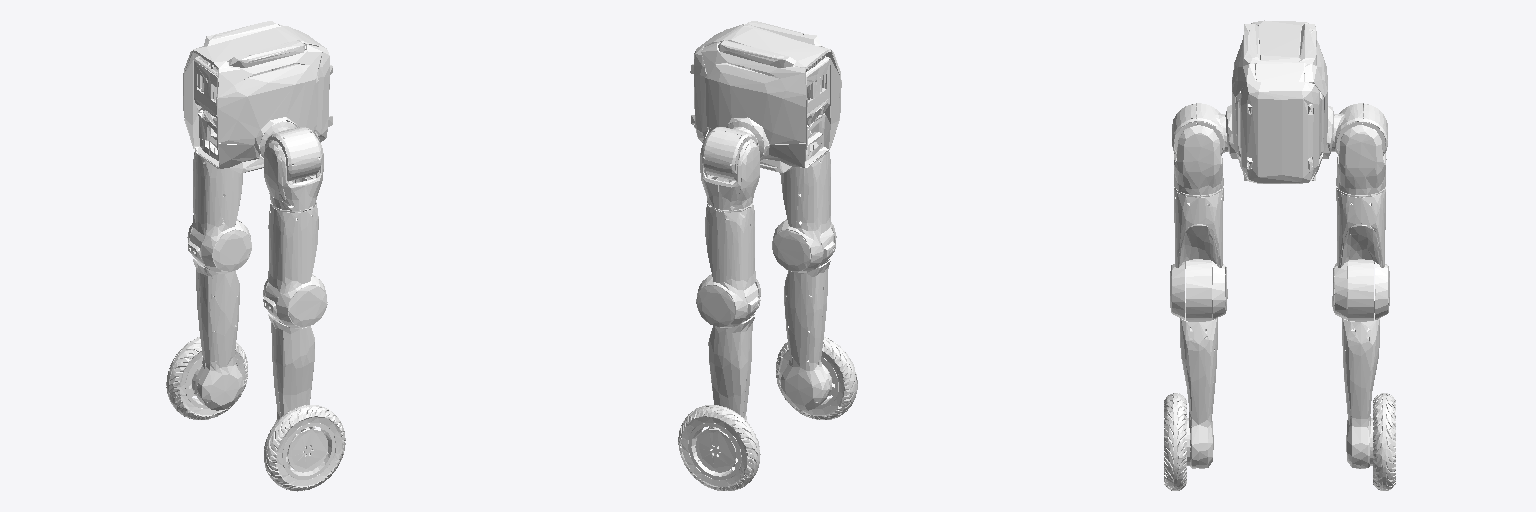
URDF robot description (bipedal_robot):
<?xml version='1.0' encoding='UTF-8'?>
<!-- Adapted from LimX tron2-robot-description 9939c22: mesh URIs use the local ROS package. -->
<robot name="bipedal_robot">
  <mujoco>
    <compiler meshdir="../meshes"/>
  </mujoco>

  <!-- base -->
  <link name="base_Link">
    <inertial>
      <origin xyz="0.00385 -0.00011 0.11254" rpy="0.0 0.0 0.0"/>
      <mass value="12.57"/>
      <inertia ixx="0.11473868" ixy="-1.726e-05" ixz="0.00717502" iyy="0.13581253" iyz="8.123e-05" izz="0.10540873"/>
    </inertial>
    <visual>
      <geometry>
        <mesh filename="package://tron2_description/meshes/base_Link.STL"/>
      </geometry>
      <material name="grey">
        <color rgba="1 1 1 1"/>
      </material>
    </visual>
    <collision>
      <geometry>
        <mesh filename="package://tron2_description/meshes/base_Link.STL"/>
      </geometry>
    </collision>
  </link>

  <!-- base imu -->
  <link name="base_imu">
    <inertial>
      <origin xyz="0.0 0.0 0.0" rpy="0.0 0.0 0.0"/>
      <mass value="0.01"/>
      <inertia ixx="1e-06" ixy="0.0" ixz="0.0" iyy="1e-06" iyz="0.0" izz="1e-06"/>
    </inertial>
  </link>
  <joint name="base_imu_Joint" type="fixed">
    <origin xyz="0.0 0.0 0.0" rpy="0.0 0.0 0.0"/>
    <parent link="base_Link"/>
    <child link="base_imu"/>
  </joint>

  <!-- proximal pitch L Link -->
  <link name="proximal_pitch_L_Link">
    <inertial>
      <origin xyz="-0.00547 0.07014 -0.00611" rpy="0.0 0.0 0.0"/>
      <mass value="2.21"/>
      <inertia ixx="0.00438539" ixy="-1.065e-05" ixz="1.817e-05" iyy="0.00308183" iyz="5.213e-05" izz="0.00349504"/>
    </inertial>
    <visual>
      <geometry>
        <mesh filename="package://tron2_description/meshes/proximal_pitch_L_Link.STL"/>
      </geometry>
      <material name="grey">
        <color rgba="1 1 1 1"/>
      </material>
    </visual>
    <collision>
      <geometry>
        <mesh filename="package://tron2_description/meshes/proximal_pitch_L_Link.STL"/>
      </geometry>
    </collision>
  </link>
  <joint name="proximal_pitch_L_Joint" type="revolute">
    <origin xyz="-0.00044 0.09178 0.05474" rpy="0.0 0.0 0.0"/>
    <parent link="base_Link"/>
    <child link="proximal_pitch_L_Link"/>
    <axis xyz="0.0 0.9961947268929313 -0.0871554135479712"/>
    <limit lower="-3.141592653589793" upper="2.600540585471551" effort="150.0" velocity="18.3"/>
  </joint>
  <link name="proximal_roll_L_Link">
    <inertial>
      <origin xyz="0.03124 0.00035 -0.08414" rpy="0.0 0.0 0.0"/>
      <mass value="1.74"/>
      <inertia ixx="0.00476933" ixy="-1.172e-05" ixz="3.271e-05" iyy="0.00545584" iyz="-2.946e-05" izz="0.00305316"/>
    </inertial>
    <visual>
      <geometry>
        <mesh filename="package://tron2_description/meshes/proximal_roll_L_Link.STL"/>
      </geometry>
      <material name="grey">
        <color rgba="1 1 1 1"/>
      </material>
    </visual>
    <collision>
      <geometry>
        <mesh filename="package://tron2_description/meshes/proximal_roll_L_Link.STL"/>
      </geometry>
    </collision>
  </link>
  <joint name="proximal_roll_L_Joint" type="revolute">
    <origin xyz="-0.032 0.0758 -0.00663" rpy="0.0 0.0 0.0"/>
    <parent link="proximal_pitch_L_Link"/>
    <child link="proximal_roll_L_Link"/>
    <axis xyz="1.0 0.0 0.0"/>
    <limit lower="-0.2617993877991494" upper="3.1939524787897455" effort="150.0" velocity="18.3"/>
  </joint>
  <link name="proximal_yaw_L_Link">
    <inertial>
      <origin xyz="-0.00254 0.00155 -0.10742" rpy="0.0 0.0 0.0"/>
      <mass value="1.65"/>
      <inertia ixx="0.01554314" ixy="-3.32e-06" ixz="0.00024639" iyy="0.01485362" iyz="7.569e-05" izz="0.00378004"/>
    </inertial>
    <visual>
      <geometry>
        <mesh filename="package://tron2_description/meshes/proximal_yaw_L_Link.STL"/>
      </geometry>
      <material name="grey">
        <color rgba="1 1 1 1"/>
      </material>
    </visual>
    <collision>
      <geometry>
        <mesh filename="package://tron2_description/meshes/proximal_yaw_L_Link.STL"/>
      </geometry>
    </collision>
  </link>
  <joint name="proximal_yaw_L_Joint" type="revolute">
    <origin xyz="0.032 0.0 -0.1374" rpy="0.0 0.0 0.0"/>
    <parent link="proximal_roll_L_Link"/>
    <child link="proximal_yaw_L_Link"/>
    <axis xyz="0.0 0.0 1.0"/>
    <limit lower="-3.6651914291880923" upper="1.4835298641951802" effort="60.0" velocity="22.52"/>
  </joint>
  <link name="knee_L_Link">
    <inertial>
      <origin xyz="-0.00204 -0.02449 -0.12995" rpy="0.0 0.0 0.0"/>
      <mass value="4.66"/>
      <inertia ixx="0.11057056" ixy="7.11e-06" ixz="-0.0010003" iyy="0.11286353" iyz="0.00158987" izz="0.00620343"/>
    </inertial>
    <visual>
      <geometry>
        <mesh filename="package://tron2_description/meshes/knee_L_Link.STL"/>
      </geometry>
      <material name="grey">
        <color rgba="1 1 1 1"/>
      </material>
    </visual>
    <collision>
      <geometry>
        <mesh filename="package://tron2_description/meshes/knee_L_Link.STL"/>
      </geometry>
    </collision>
  </link>
  <joint name="knee_L_Joint" type="revolute">
    <origin xyz="0.004 0.032 -0.2126" rpy="0.0 0.0 0.0"/>
    <parent link="proximal_yaw_L_Link"/>
    <child link="knee_L_Link"/>
    <axis xyz="0.0 1.0 0.0"/>
    <limit lower="-2.6179938779914944" upper="0.2617993877991494" effort="150.0" velocity="18.3"/>
  </joint>
  <link name="wheel_L_Link">
    <inertial>
      <origin xyz="0.00048 0.00484 0.0003" rpy="0.0 0.0 0.0"/>
      <mass value="0.91"/>
      <inertia ixx="0.00256223" ixy="7.6e-07" ixz="-2.292e-05" iyy="0.00490844" iyz="4.2e-07" izz="0.00259234"/>
    </inertial>
    <visual>
      <geometry>
        <mesh filename="package://tron2_description/meshes/wheel_L_Link.STL"/>
      </geometry>
      <material name="grey">
        <color rgba="1 1 1 1"/>
      </material>
    </visual>
    <collision>
      <origin rpy="1.5707963267948966 0 0" xyz="0 0.003 0"/>
      <geometry>
          <cylinder length="0.045" radius="0.1"/>
      </geometry>
    </collision>
  </link>
  <joint name="wheel_L_Joint" type="revolute">
    <origin xyz="-0.004 0.013 -0.35" rpy="0.0 0.0 0.0"/>
    <parent link="knee_L_Link"/>
    <child link="wheel_L_Link"/>
    <axis xyz="0.0 1.0 0.0"/>
    <limit lower="-1745329.2519943295" upper="1745329.2519943295" effort="22.0" velocity="41.89"/>
  </joint>

  <!-- proximal pitch R Link -->
  <link name="proximal_pitch_R_Link">
    <inertial>
      <origin xyz="-0.00547 -0.07014 -0.00611" rpy="-0.0 0.0 -0.0"/>
      <mass value="2.21"/>
      <inertia ixx="0.00438539" ixy="1.065e-05" ixz="1.817e-05" iyy="0.00308183" iyz="-5.213e-05" izz="0.00349504"/>
    </inertial>
    <visual>
      <geometry>
        <mesh filename="package://tron2_description/meshes/proximal_pitch_R_Link.STL"/>
      </geometry>
      <material name="grey">
        <color rgba="1 1 1 1"/>
      </material>
    </visual>
    <collision>
      <geometry>
        <mesh filename="package://tron2_description/meshes/proximal_pitch_R_Link.STL"/>
      </geometry>
    </collision>
  </link>
  <joint name="proximal_pitch_R_Joint" type="revolute">
    <origin xyz="-0.00044 -0.09178 0.05474" rpy="0.0 0.0 0.0"/>
    <parent link="base_Link"/>
    <child link="proximal_pitch_R_Link"/>
    <axis xyz="0.0 0.9961947268929313 0.0871554135479712"/>
    <limit lower="-3.141592653589793" upper="2.600540585471551" effort="150.0" velocity="18.3"/>
  </joint>
  <link name="proximal_roll_R_Link">
    <inertial>
      <origin xyz="0.03124 -0.00035 -0.08414" rpy="0.0 0.0 0.0"/>
      <mass value="1.74"/>
      <inertia ixx="0.00476933" ixy="1.172e-05" ixz="3.271e-05" iyy="0.00545584" iyz="2.946e-05" izz="0.00305316"/>
    </inertial>
    <visual>
      <geometry>
        <mesh filename="package://tron2_description/meshes/proximal_roll_R_Link.STL"/>
      </geometry>
      <material name="grey">
        <color rgba="1 1 1 1"/>
      </material>
    </visual>
    <collision>
      <geometry>
        <mesh filename="package://tron2_description/meshes/proximal_roll_R_Link.STL"/>
      </geometry>
    </collision>
  </link>
  <joint name="proximal_roll_R_Joint" type="revolute">
    <origin xyz="-0.032 -0.0758 -0.00663" rpy="0.0 0.0 0.0"/>
    <parent link="proximal_pitch_R_Link"/>
    <child link="proximal_roll_R_Link"/>
    <axis xyz="1.0 0.0 0.0"/>
    <limit lower="-3.1939524787897455" upper="0.2617993877991494" effort="150.0" velocity="18.3"/>
  </joint>
  <link name="proximal_yaw_R_Link">
    <inertial>
      <origin xyz="-0.00254 -0.00155 -0.10742" rpy="-0.0 0.0 -0.0"/>
      <mass value="1.65"/>
      <inertia ixx="0.01554314" ixy="3.32e-06" ixz="0.00024639" iyy="0.01485362" iyz="-7.569e-05" izz="0.00378004"/>
    </inertial>
    <visual>
      <geometry>
        <mesh filename="package://tron2_description/meshes/proximal_yaw_R_Link.STL"/>
      </geometry>
      <material name="grey">
        <color rgba="1 1 1 1"/>
      </material>
    </visual>
    <collision>
      <geometry>
        <mesh filename="package://tron2_description/meshes/proximal_yaw_R_Link.STL"/>
      </geometry>
    </collision>
  </link>
  <joint name="proximal_yaw_R_Joint" type="revolute">
    <origin xyz="0.032 -0.0 -0.1374" rpy="0.0 0.0 0.0"/>
    <parent link="proximal_roll_R_Link"/>
    <child link="proximal_yaw_R_Link"/>
    <axis xyz="0.0 0.0 1.0"/>
    <limit lower="-1.4835298641951802" upper="3.6651914291880923" effort="60.0" velocity="22.52"/>
  </joint>
  <link name="knee_R_Link">
    <inertial>
      <origin xyz="-0.00204 0.02449 -0.12995" rpy="-0.0 0.0 -0.0"/>
      <mass value="4.66"/>
      <inertia ixx="0.11057056" ixy="-7.11e-06" ixz="-0.0010003" iyy="0.11286353" iyz="-0.00158987" izz="0.00620343"/>
    </inertial>
    <visual>
      <geometry>
        <mesh filename="package://tron2_description/meshes/knee_R_Link.STL"/>
      </geometry>
      <material name="grey">
        <color rgba="1 1 1 1"/>
      </material>
    </visual>
    <collision>
      <geometry>
        <mesh filename="package://tron2_description/meshes/knee_R_Link.STL"/>
      </geometry>
    </collision>
  </link>
  <joint name="knee_R_Joint" type="revolute">
    <origin xyz="0.004 -0.032 -0.2126" rpy="0.0 0.0 0.0"/>
    <parent link="proximal_yaw_R_Link"/>
    <child link="knee_R_Link"/>
    <axis xyz="0.0 1.0 0.0"/>
    <limit lower="-2.6179938779914944" upper="0.2617993877991494" effort="150.0" velocity="18.3"/>
  </joint>
  <link name="wheel_R_Link">
    <inertial>
      <origin xyz="0.00048 -0.00484 0.0003" rpy="-0.0 0.0 -0.0"/>
      <mass value="0.91"/>
      <inertia ixx="0.00256223" ixy="-7.6e-07" ixz="-2.292e-05" iyy="0.00490844" iyz="-4.2e-07" izz="0.00259234"/>
    </inertial>
    <visual>
      <geometry>
        <mesh filename="package://tron2_description/meshes/wheel_R_Link.STL"/>
      </geometry>
      <material name="grey">
        <color rgba="1 1 1 1"/>
      </material>
    </visual>
    <collision>
      <origin rpy="1.5707963267948966 0 0" xyz="0 -0.003 0"/>
      <geometry>
          <cylinder length="0.045" radius="0.1"/>
      </geometry>
    </collision>
  </link>
  <joint name="wheel_R_Joint" type="revolute">
    <origin xyz="-0.004 -0.013 -0.35" rpy="0.0 0.0 0.0"/>
    <parent link="knee_R_Link"/>
    <child link="wheel_R_Link"/>
    <axis xyz="0.0 1.0 0.0"/>
    <limit lower="-1745329.2519943295" upper="1745329.2519943295" effort="22.0" velocity="41.89"/>
  </joint>

  <!-- Camera --> 
  <link name="d435_Link">
    <inertial>
      <mass value="0.001"/>
      <inertia ixx="1e-07" ixy="0.0" ixz="0.0" iyy="1e-07" iyz="0.0" izz="1e-07"/>
    </inertial>
    <visual>
      <geometry>
        <box size="0.005 0.005 0.005"/>
      </geometry>
    </visual>
  </link>
  <joint name="d435_Joint" type="fixed">
    <origin xyz="0.0968 0.01759 -0.00409" rpy="0 2.7227 0"/>
    <parent link="base_Link"/>
    <child link="d435_Link"/>
  </joint>
  
  <link name="d435_optical_frame">
    <inertial>
      <mass value="0.001"/>
      <inertia ixx="1e-07" ixy="0.0" ixz="0.0" iyy="1e-07" iyz="0.0" izz="1e-07"/>
    </inertial>
  </link>
  <joint name="d435_optical_Joint" type="fixed">
    <origin rpy="-1.5707963267948966 0 -1.5707963267948966" xyz="0 0 0"/>
    <parent link="d435_Link"/>
    <child link="d435_optical_frame"/>
  </joint>  
  <!-- ROS optical axes of the mounted WF simulation camera: right, down, forward. -->
  <link name="wf_camera_optical"/>
  <joint name="wf_camera_optical_joint" type="fixed">
    <parent link="d435_Link"/>
    <child link="wf_camera_optical"/>
    <origin xyz="0 0 0" rpy="0 0 -1.5707963267948966"/>
  </joint>
</robot>

--- Facts derived from the render (not from the file) ---
Views: 3 orthographic renders of the robot side by side, from view 1: azimuth 30°, elevation 25°; view 2: azimuth 150°, elevation 25°; view 3: azimuth 270°, elevation 25°.
Robot: bipedal_robot — 15 links, 14 joints (10 revolute, 4 fixed); root link base_Link; default pose: every joint at zero.
Visible links, largest first — view 1: base_Link, knee_L_Link, proximal_yaw_R_Link, wheel_R_Link, proximal_yaw_L_Link, knee_R_Link, wheel_L_Link, proximal_roll_R_Link, proximal_pitch_R_Link; view 2: base_Link, knee_R_Link, proximal_yaw_L_Link, wheel_L_Link, proximal_yaw_R_Link, knee_L_Link, wheel_R_Link, proximal_roll_L_Link, proximal_pitch_L_Link; view 3: base_Link, knee_R_Link, knee_L_Link, proximal_yaw_L_Link, proximal_yaw_R_Link, proximal_roll_L_Link, proximal_roll_R_Link, wheel_R_Link, wheel_L_Link, proximal_pitch_R_Link, proximal_pitch_L_Link.
Link boxes in pixels (bbox=[...]): base_Link: bbox=[183, 21, 332, 173]; knee_L_Link: bbox=[188, 219, 242, 410]; proximal_yaw_R_Link: bbox=[263, 202, 327, 327]; wheel_R_Link: bbox=[264, 405, 345, 491]; proximal_yaw_L_Link: bbox=[187, 151, 251, 272]; knee_R_Link: bbox=[263, 274, 319, 456]; wheel_L_Link: bbox=[166, 337, 247, 419]; proximal_roll_R_Link: bbox=[264, 137, 323, 210]; proximal_pitch_R_Link: bbox=[260, 121, 321, 181]; base_Link: bbox=[690, 21, 841, 172]; knee_R_Link: bbox=[781, 219, 835, 410]; proximal_yaw_L_Link: bbox=[696, 201, 760, 327]; wheel_L_Link: bbox=[678, 405, 760, 490]; proximal_yaw_R_Link: bbox=[772, 151, 836, 272]; knee_L_Link: bbox=[700, 274, 760, 458]; wheel_R_Link: bbox=[776, 337, 857, 419]; proximal_roll_L_Link: bbox=[700, 138, 759, 210]; proximal_pitch_L_Link: bbox=[702, 121, 764, 180]; base_Link: bbox=[1227, 20, 1332, 183]; knee_R_Link: bbox=[1180, 259, 1217, 468]; knee_L_Link: bbox=[1342, 259, 1379, 468]; proximal_yaw_L_Link: bbox=[1332, 186, 1389, 319]; proximal_yaw_R_Link: bbox=[1170, 187, 1227, 319]; proximal_roll_L_Link: bbox=[1336, 111, 1386, 194]; proximal_roll_R_Link: bbox=[1174, 111, 1223, 195]; wheel_R_Link: bbox=[1164, 393, 1186, 490]; wheel_L_Link: bbox=[1373, 393, 1395, 490]; proximal_pitch_R_Link: bbox=[1172, 103, 1232, 155]; proximal_pitch_L_Link: bbox=[1327, 103, 1387, 155].
Bounding box of the posed robot: 0.3069 × 0.4802 × 1.01 m (x, y, z).
Meshes: 11 distinct files referenced, 11 mesh visuals loaded (11 binary STL).
